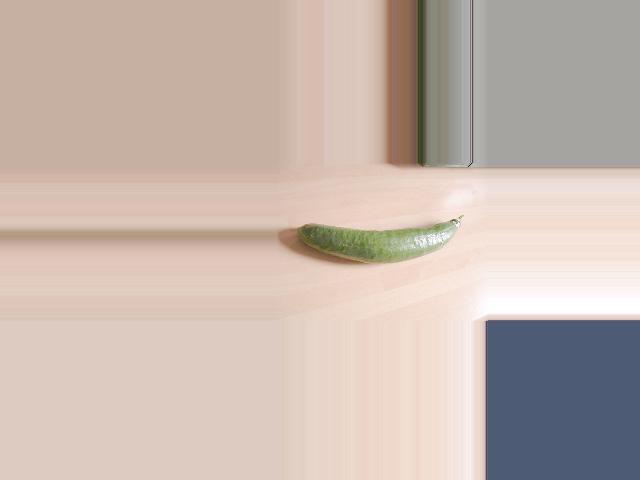cucumber: (295, 215, 465, 264)
